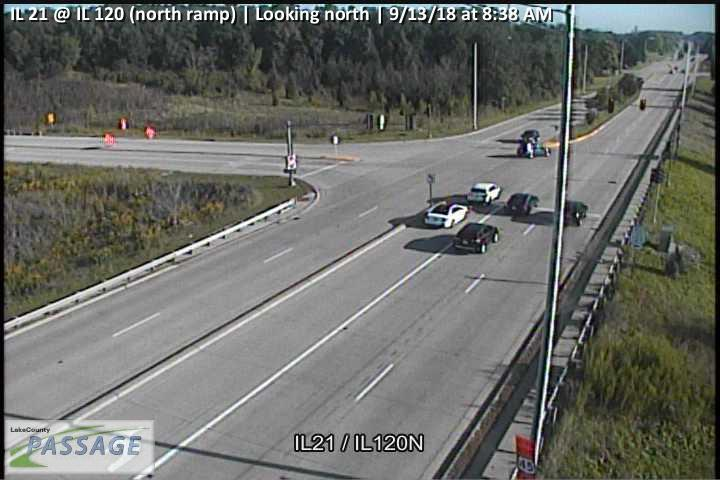SUV: (453, 223, 500, 254), (467, 182, 502, 205)
Sedan: (424, 202, 470, 228), (503, 192, 540, 215), (565, 200, 588, 226)
